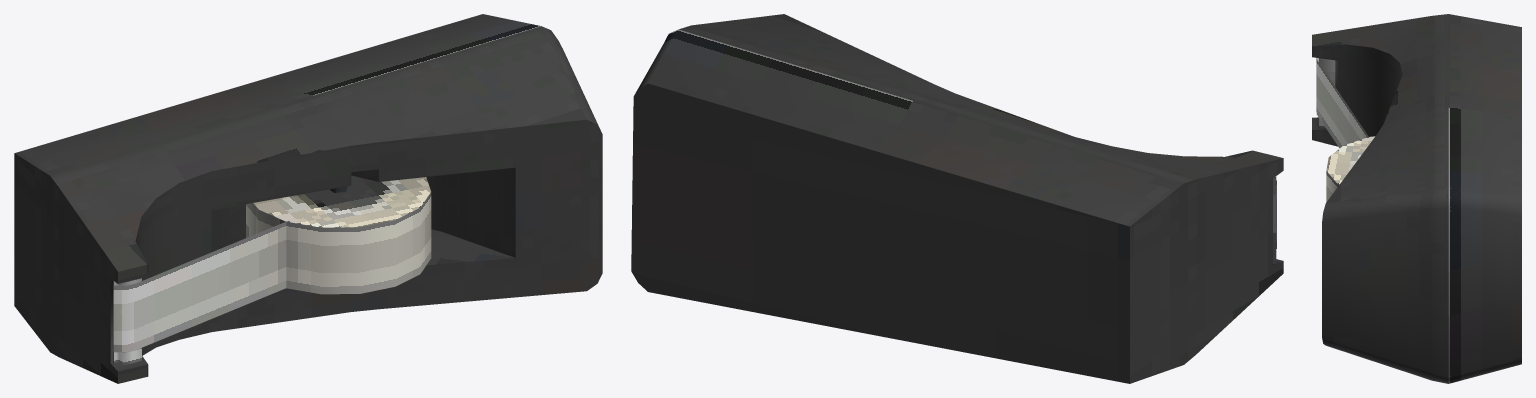
Rendered from p_rus_tape_dispenser_LOD0.obj.
3 renders of one model, left to right at view 1: azimuth 30°, elevation 25°; view 2: azimuth 150°, elevation 25°; view 3: azimuth 270°, elevation 25°, orthographic. The views are drawn at different scales.
Parts seen in each view (by area): view 1: mtl_p_rus_tape_dispenser; view 2: mtl_p_rus_tape_dispenser; view 3: mtl_p_rus_tape_dispenser.
Part boxes in pixels (<box>): mtl_p_rus_tape_dispenser: <box>14,14,602,383</box>; mtl_p_rus_tape_dispenser: <box>631,14,1283,383</box>; mtl_p_rus_tape_dispenser: <box>1312,14,1521,383</box>.
Size of the model in its own units: 18.39 by 7.94 by 7.72.
